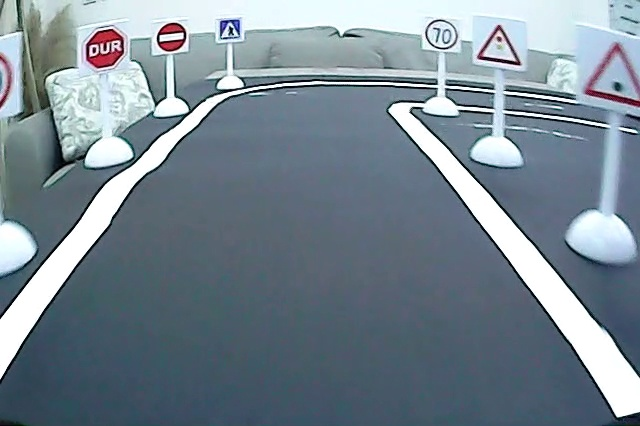do not enter: (154, 20, 189, 55)
green light: (581, 35, 640, 112)
pedestrian crossing: (216, 18, 243, 42)
red light: (472, 20, 524, 69)
speed limit 70: (424, 18, 460, 54)
stop sign: (81, 24, 129, 73)
